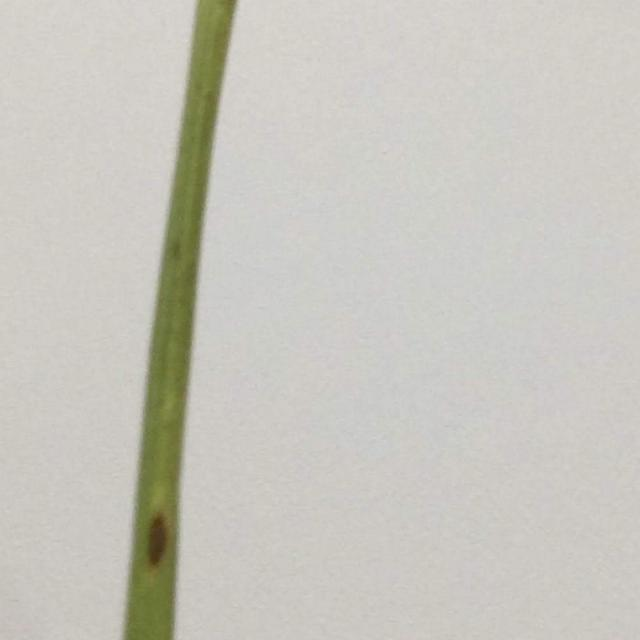Leaf_Blast: (131, 452, 186, 599)
